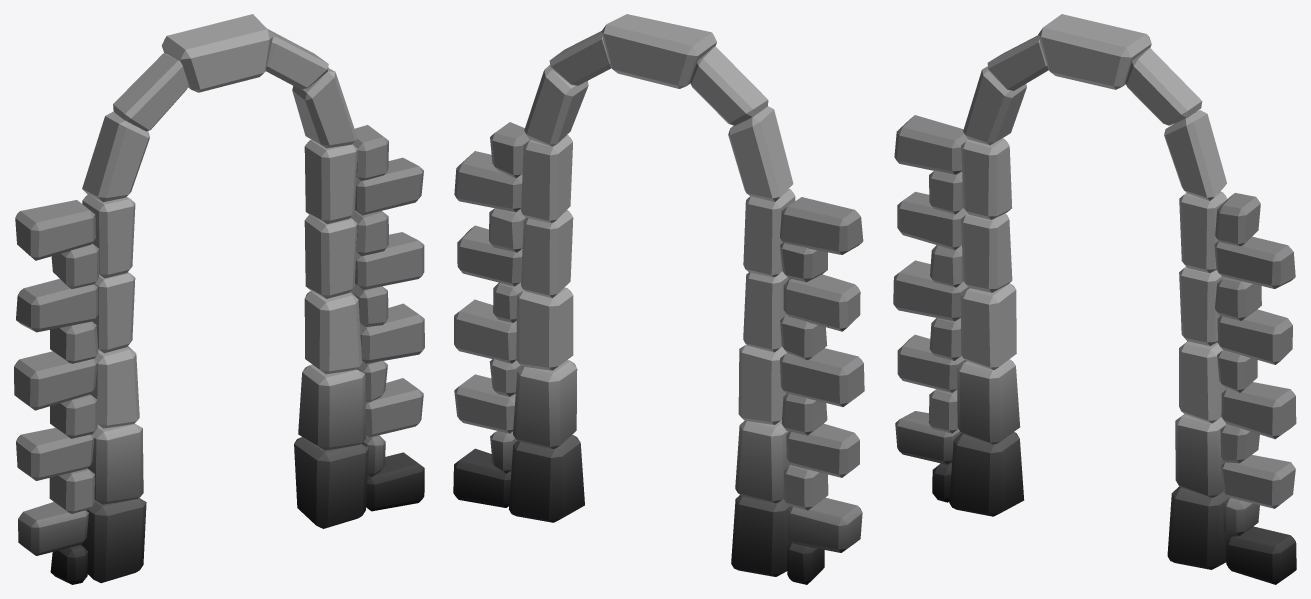
The model's file is BrickArchway_02_1.5x2.75_Walled_2m.fbx.
3 renders of one model, left to right at view 1: azimuth 30°, elevation 25°; view 2: azimuth 150°, elevation 25°; view 3: azimuth 330°, elevation 25°, orthographic.
Visible parts, largest first — view 1: BrickArchway_02_1.5x2.75_Walled_2m; view 2: BrickArchway_02_1.5x2.75_Walled_2m; view 3: BrickArchway_02_1.5x2.75_Walled_2m.
Part boxes in pixels (x1=…): BrickArchway_02_1.5x2.75_Walled_2m: x1=14, y1=14, x2=424, y2=584; BrickArchway_02_1.5x2.75_Walled_2m: x1=453, y1=14, x2=864, y2=584; BrickArchway_02_1.5x2.75_Walled_2m: x1=893, y1=14, x2=1296, y2=584.
Size of the model in its own units: 222 by 275 by 30.04.
